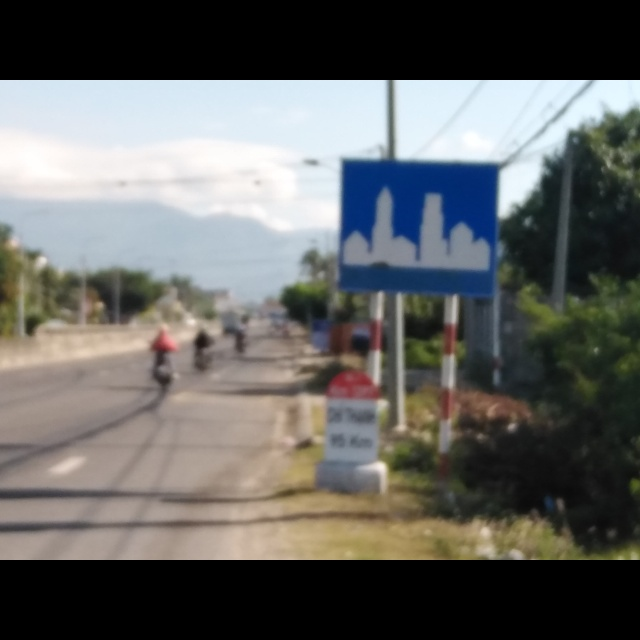Khu đông dân cư: (334, 156, 501, 298)
